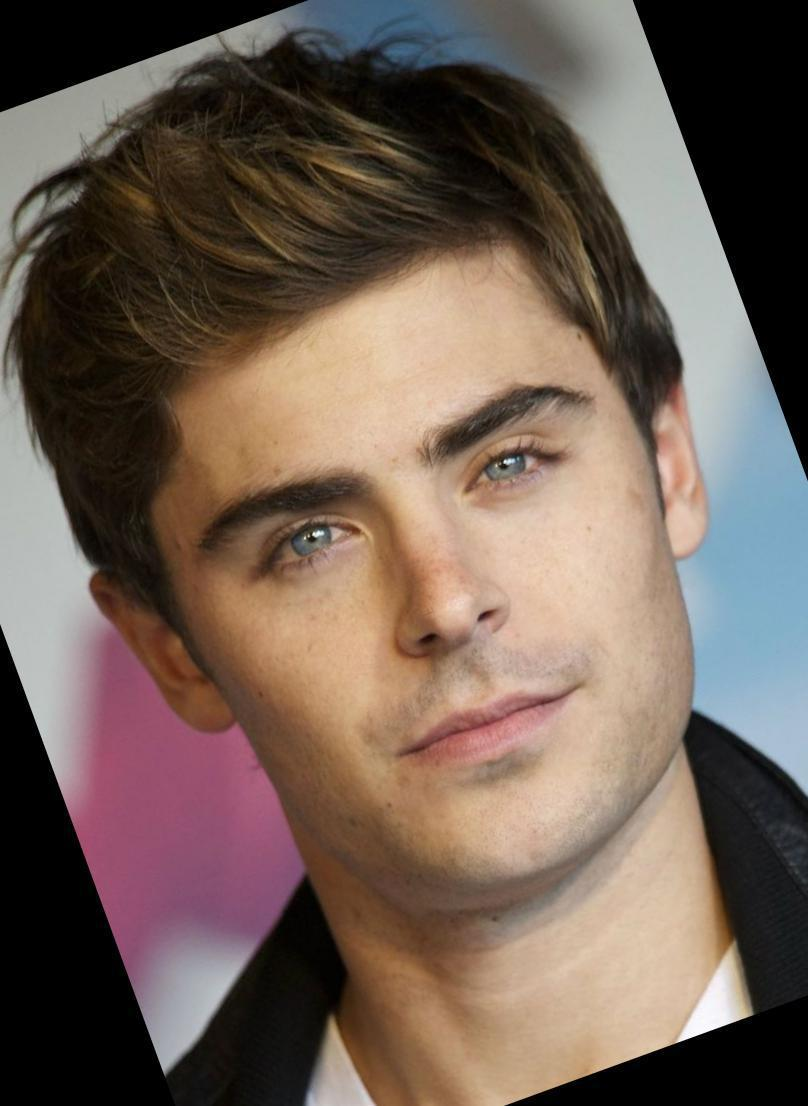Sober: (191, 336, 656, 845)
